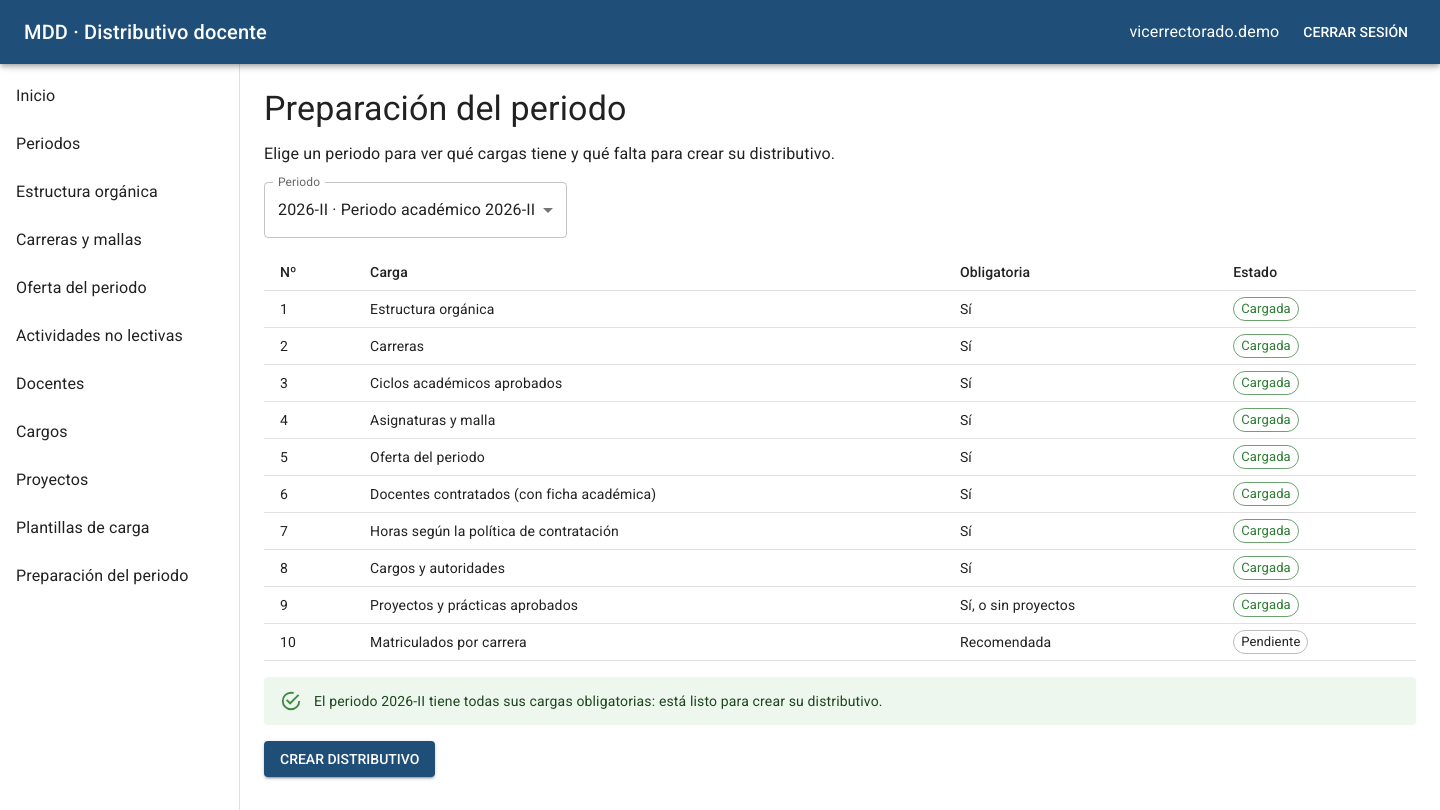
Test: Preparación del periodo › con las cargas obligatorias, crea el distributivo, lo dice y deja de ofrecerlo
Expected: the text "está listo para crear su distributivo" is shown, [314, 693, 883, 709]
Expected: the row "10 Matriculados por carrera Recomendada Pendiente" is shown, [264, 623, 1416, 660]
Click the button "Crear distributivo" at (350, 759), box [264, 741, 435, 777]
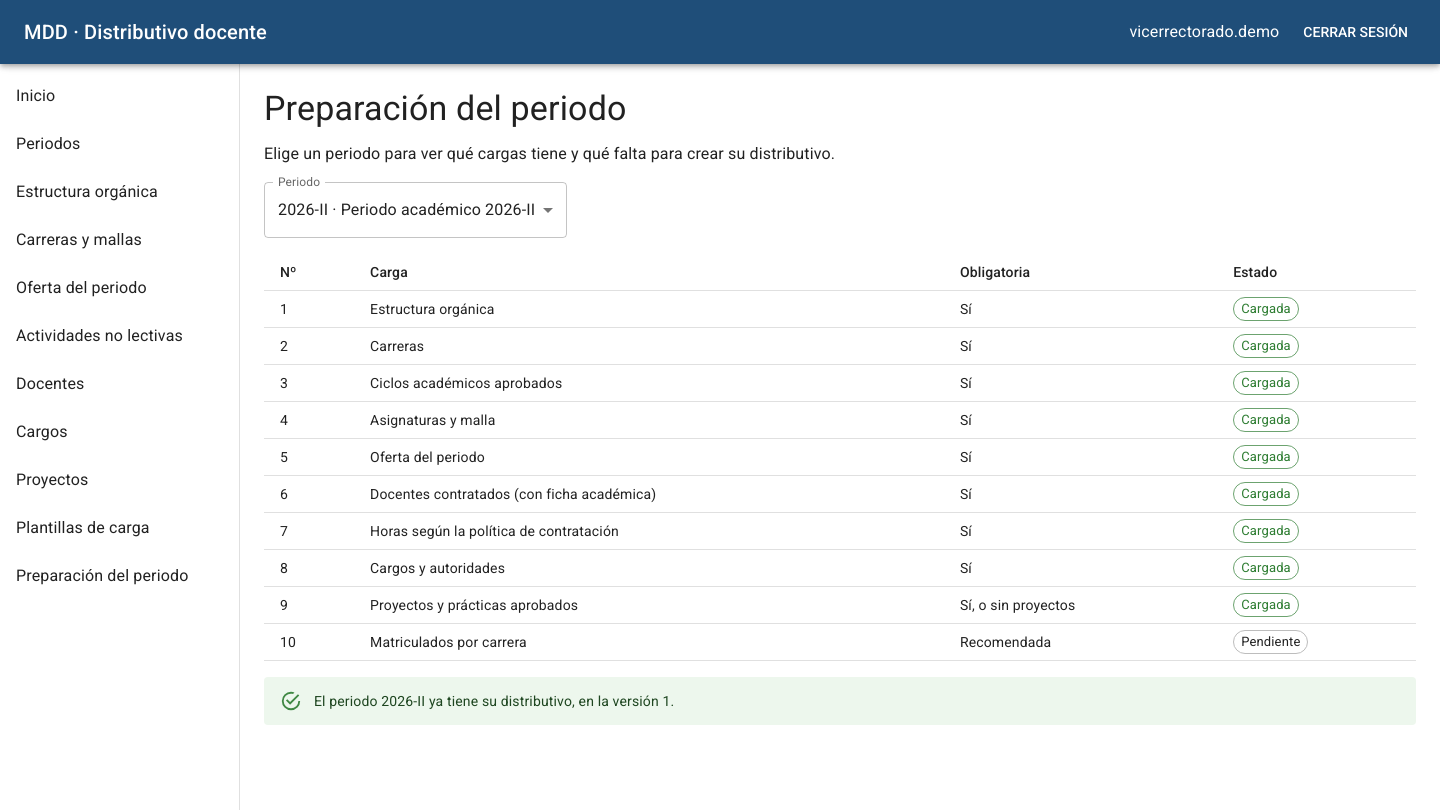
Expected: the message reads "El periodo 2026-II ya tiene su distributivo, en la versión 1.", [314, 693, 674, 709]
Expected: the button "Crear distributivo" is gone
Expected: the text "está listo para crear su distributivo" is gone
